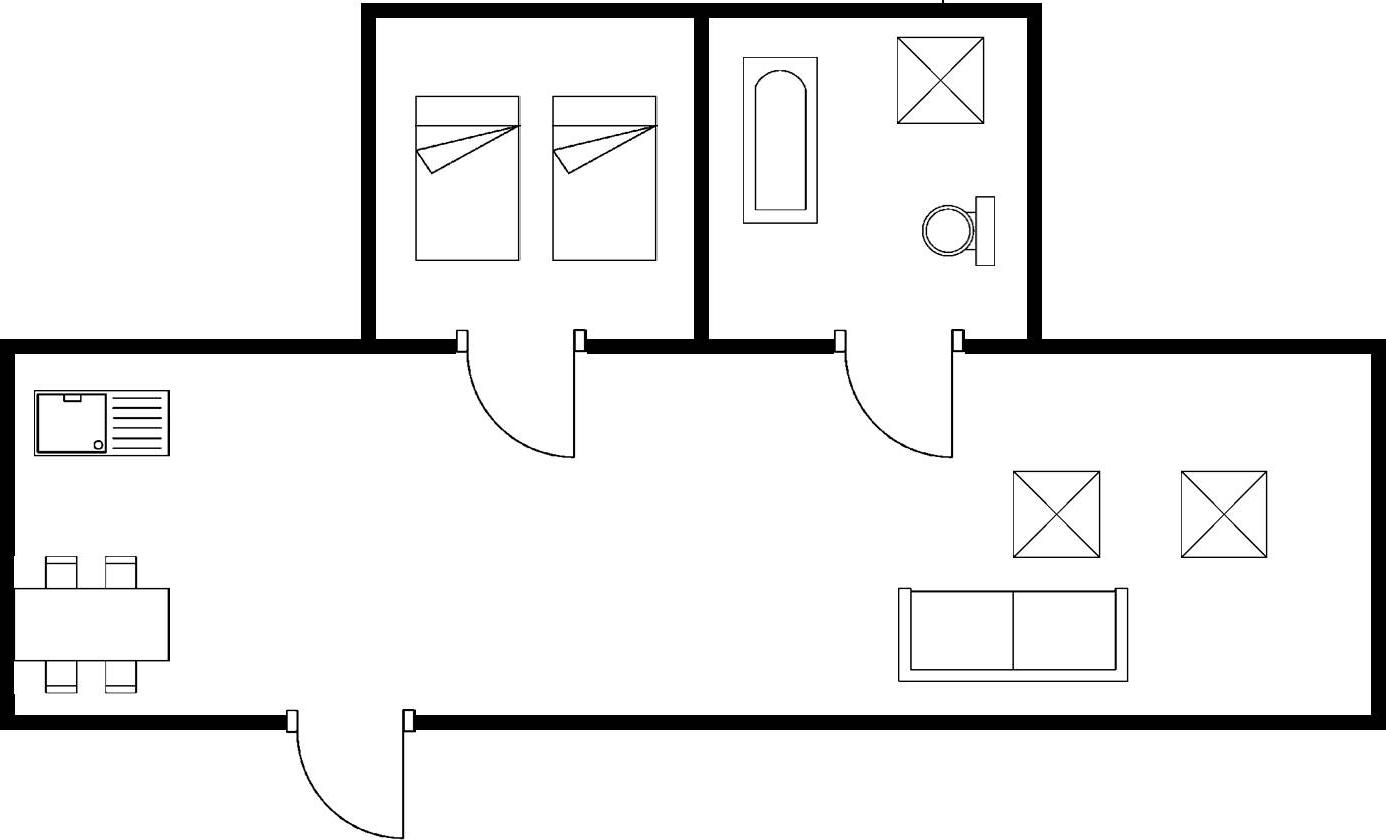bed: (409, 89, 526, 268), (546, 88, 662, 268)
dining_table: (7, 546, 179, 700)
sink: (31, 380, 177, 464)
sofa: (891, 582, 1135, 686)
toilet: (919, 191, 1003, 274)
tub: (739, 50, 826, 229)
